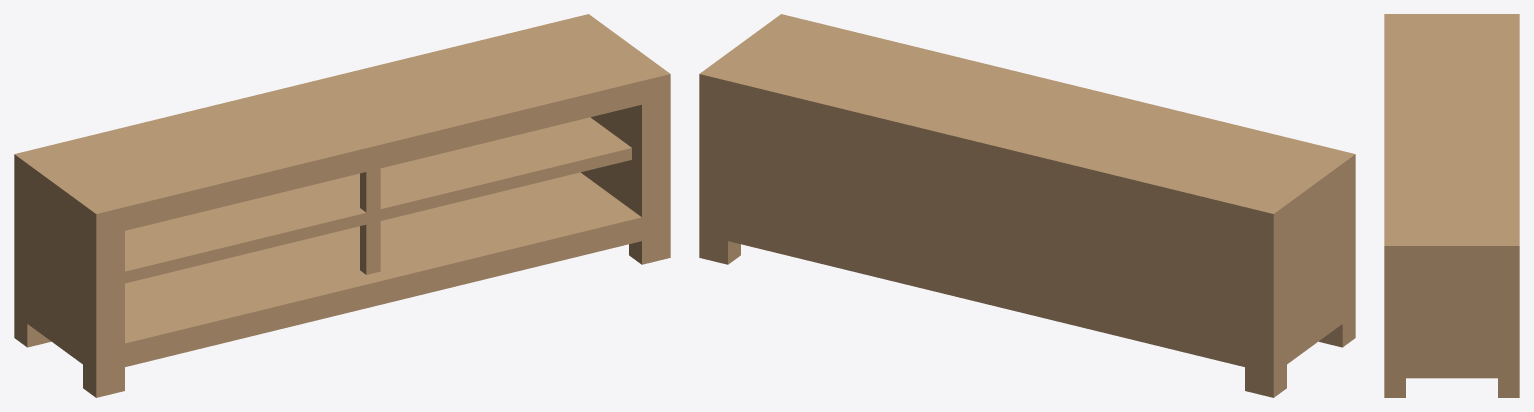
Rendered from tv-unit.glb.
3 views of the same model, side by side, from view 1: azimuth 30°, elevation 25°; view 2: azimuth 150°, elevation 25°; view 3: azimuth 270°, elevation 25° (orthographic). The views are drawn at different scales.
Visible parts, largest first — view 1: tv-unit; view 2: tv-unit; view 3: tv-unit.
Boxes of the visible parts, x1,y1,x2,y2 form: tv-unit: (14, 14, 670, 397); tv-unit: (699, 14, 1355, 397); tv-unit: (1384, 14, 1519, 397).
Bounding box in the file's own units: 1.7 × 0.52 × 0.42.
